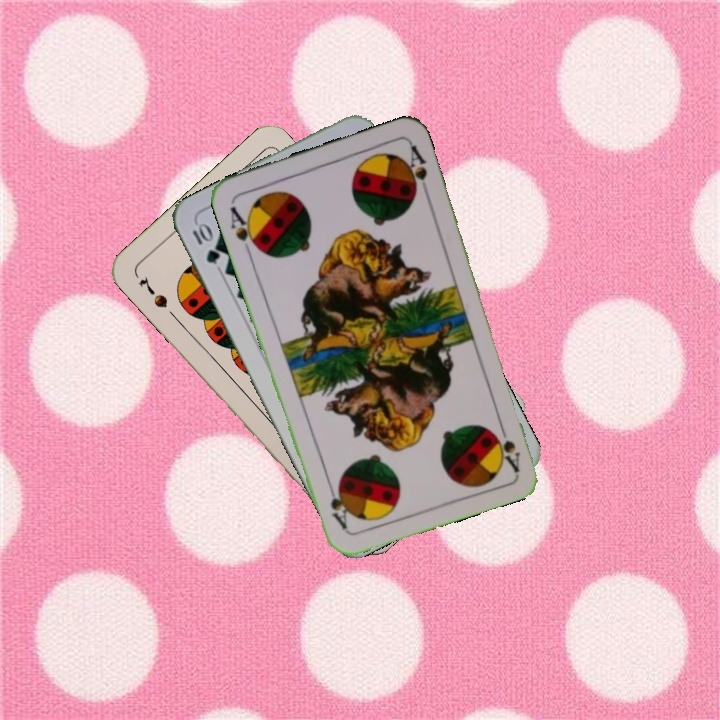G10: (188, 219, 223, 267)
S7: (135, 271, 171, 311)
SA: (226, 202, 263, 258), (493, 416, 523, 474)
